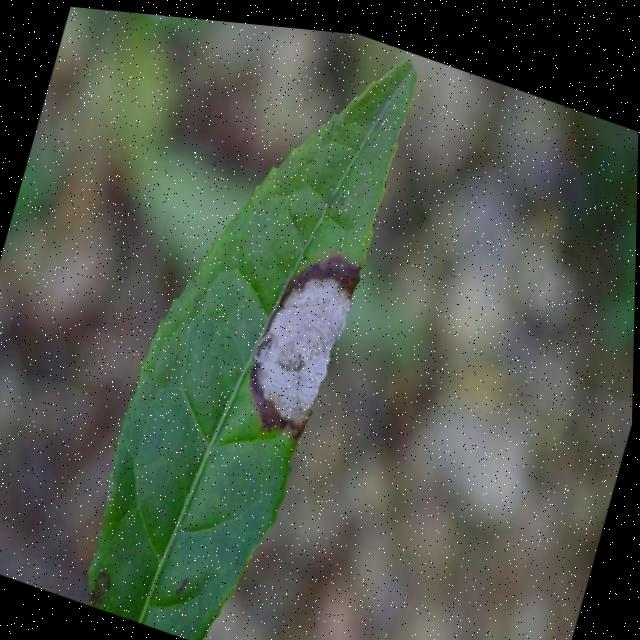Tea cloud leaf blight: (234, 222, 378, 444)
